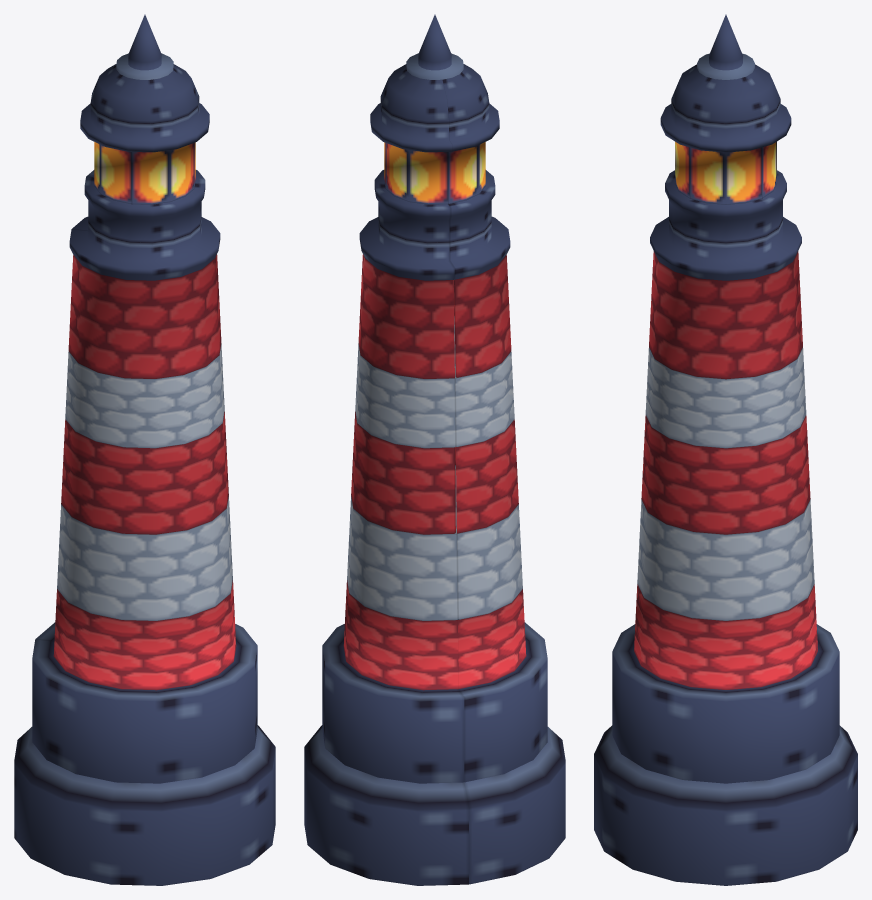
File: Farol.fbx
3 views of the same model, side by side, from view 1: azimuth 30°, elevation 25°; view 2: azimuth 150°, elevation 25°; view 3: azimuth 270°, elevation 25° (orthographic).
Visible parts, largest first — view 1: Farol; view 2: Farol; view 3: Farol.
Part boxes in pixels (x1,y1,x2,y2): Farol: (14, 14, 275, 885); Farol: (304, 14, 565, 885); Farol: (594, 14, 857, 885).
Size of the model in its own units: 1226 by 1226 by 4188.
